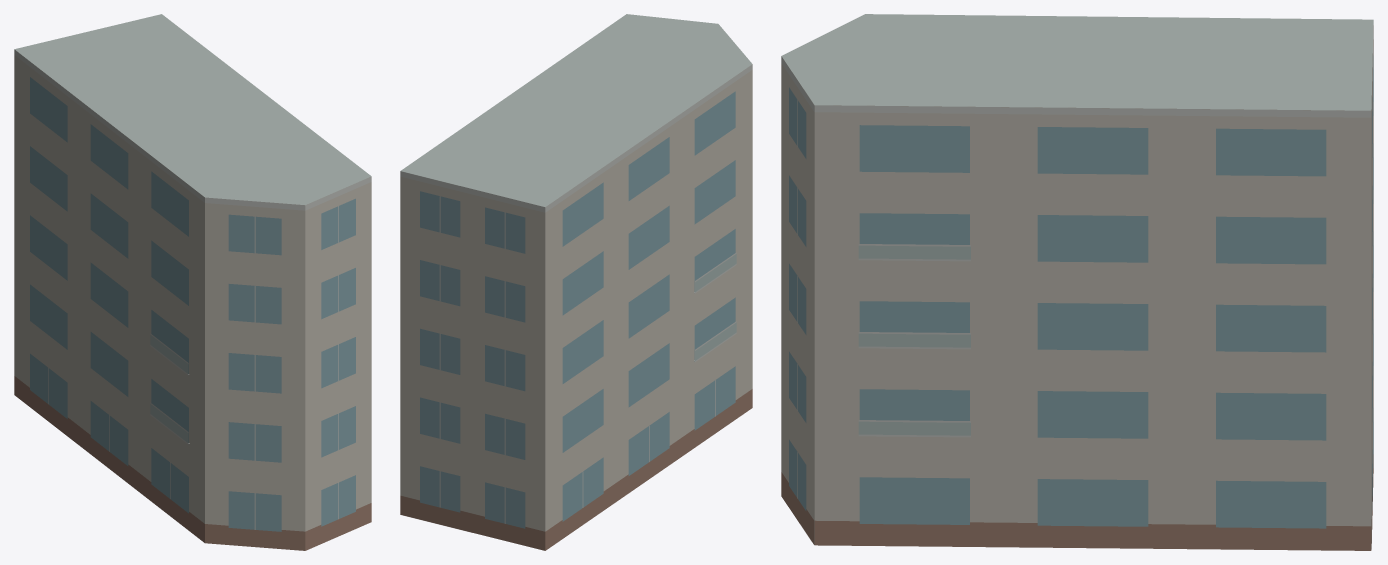
Rendered from survey-upis-32836108.glb.
The picture shows the model from 3 angles, left to right: view 1: azimuth 30°, elevation 25°; view 2: azimuth 150°, elevation 25°; view 3: azimuth 270°, elevation 25°; orthographic projection. The views are drawn at different scales.
Visible parts, largest first — view 1: survey-upis-32836108.tmp; view 2: survey-upis-32836108.tmp; view 3: survey-upis-32836108.tmp.
Part boxes in pixels (x1,y1,x2,y2): survey-upis-32836108.tmp: (14,14,371,550); survey-upis-32836108.tmp: (400,14,752,550); survey-upis-32836108.tmp: (781,14,1373,550).
Bounding box in the file's own units: 7.2 × 15.25 × 18.61.
